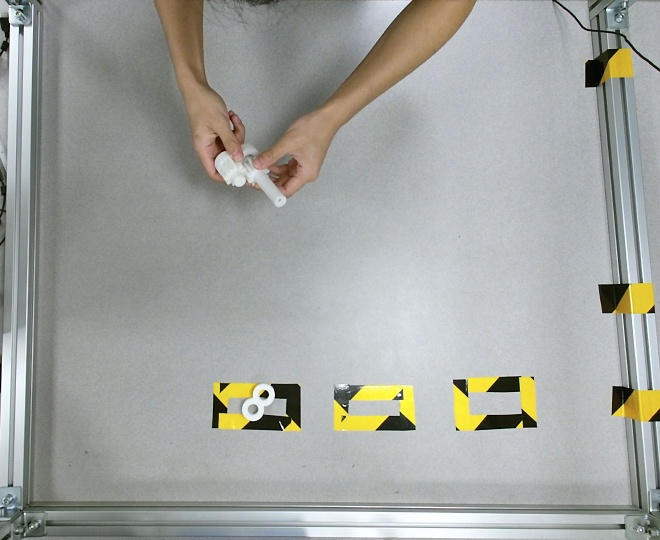stage_2: (214, 144, 260, 187)
